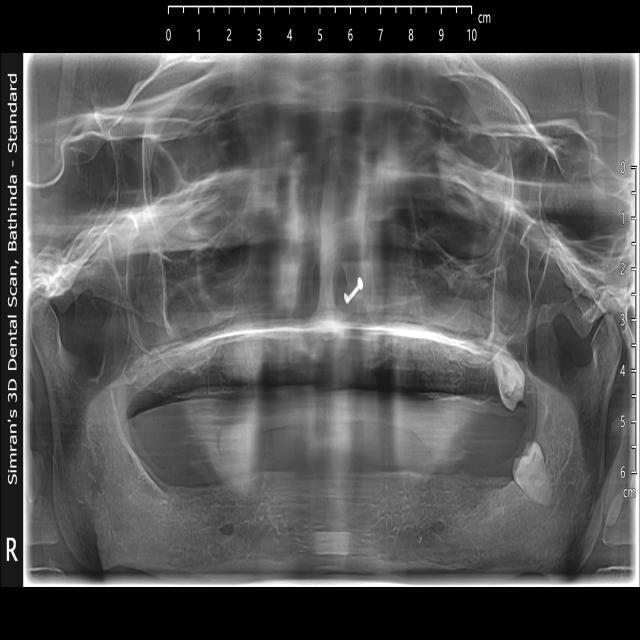Missing teeth: (186, 337, 485, 406), (186, 465, 499, 522)
